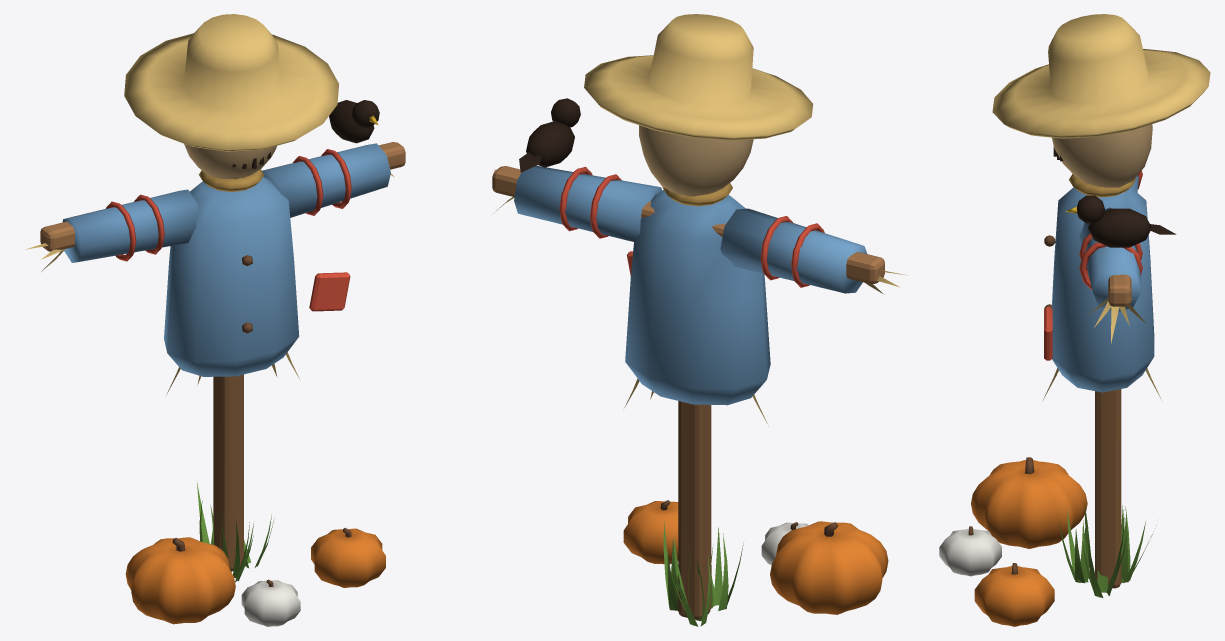
The model's file is epouvantail.glb.
The picture shows the model from 3 angles, left to right: view 1: azimuth 30°, elevation 25°; view 2: azimuth 150°, elevation 25°; view 3: azimuth 270°, elevation 25°; orthographic projection. The views are drawn at different scales.
Parts seen in each view (by area): view 1: epouvantail:peinture-bleue, epouvantail:paille, epouvantail:citrouille, epouvantail:bois, epouvantail:peinture-rouge, epouvantail:peinture-blanche, epouvantail:toile-jute, epouvantail:ombre, epouvantail:brin, epouvantail:paille-sombre; view 2: epouvantail:peinture-bleue, epouvantail:paille, epouvantail:citrouille, epouvantail:bois, epouvantail:toile-jute, epouvantail:brin, epouvantail:ombre, epouvantail:peinture-rouge, epouvantail:peinture-blanche, epouvantail:paille-sombre; view 3: epouvantail:paille, epouvantail:peinture-bleue, epouvantail:citrouille, epouvantail:bois, epouvantail:toile-jute, epouvantail:ombre, epouvantail:brin, epouvantail:peinture-blanche, epouvantail:peinture-rouge, epouvantail:paille-sombre, epouvantail:bois-sombre.
Part boxes in pixels (x1=…): epouvantail:peinture-bleue: x1=62, y1=143, x2=390, y2=376; epouvantail:paille: x1=25, y1=14, x2=394, y2=394; epouvantail:citrouille: x1=125, y1=528, x2=385, y2=624; epouvantail:bois: x1=40, y1=142, x2=405, y2=571; epouvantail:peinture-rouge: x1=106, y1=149, x2=351, y2=311; epouvantail:peinture-blanche: x1=241, y1=580, x2=300, y2=626; epouvantail:toile-jute: x1=184, y1=144, x2=276, y2=179; epouvantail:ombre: x1=232, y1=100, x2=379, y2=169; epouvantail:brin: x1=197, y1=482, x2=274, y2=582; epouvantail:paille-sombre: x1=199, y1=169, x2=264, y2=191; epouvantail:peinture-bleue: x1=514, y1=165, x2=867, y2=405; epouvantail:paille: x1=493, y1=14, x2=908, y2=425; epouvantail:citrouille: x1=623, y1=501, x2=888, y2=614; epouvantail:bois: x1=492, y1=166, x2=884, y2=619; epouvantail:toile-jute: x1=639, y1=125, x2=753, y2=196; epouvantail:brin: x1=663, y1=521, x2=743, y2=626; epouvantail:ombre: x1=519, y1=98, x2=580, y2=172; epouvantail:peinture-rouge: x1=559, y1=166, x2=824, y2=287; epouvantail:peinture-blanche: x1=761, y1=522, x2=808, y2=564; epouvantail:paille-sombre: x1=662, y1=183, x2=732, y2=206; epouvantail:paille: x1=992, y1=14, x2=1210, y2=401; epouvantail:peinture-bleue: x1=1052, y1=175, x2=1154, y2=392; epouvantail:citrouille: x1=971, y1=460, x2=1087, y2=626; epouvantail:bois: x1=1095, y1=187, x2=1131, y2=588; epouvantail:toile-jute: x1=1052, y1=124, x2=1152, y2=187; epouvantail:ombre: x1=1053, y1=147, x2=1176, y2=247; epouvantail:brin: x1=1059, y1=504, x2=1152, y2=597; epouvantail:peinture-blanche: x1=939, y1=528, x2=1001, y2=576; epouvantail:peinture-rouge: x1=1044, y1=170, x2=1142, y2=360; epouvantail:paille-sombre: x1=1069, y1=174, x2=1135, y2=197; epouvantail:bois-sombre: x1=968, y1=235, x2=1055, y2=574.
Bounding box in the file's own units: 1.62 × 2.12 × 0.9274.
